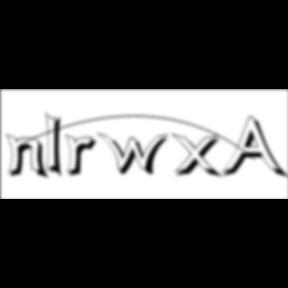I: (46, 110, 70, 182)
n: (6, 132, 53, 181)
r: (65, 134, 103, 180)
w: (97, 132, 175, 178)
x: (172, 132, 226, 181)
